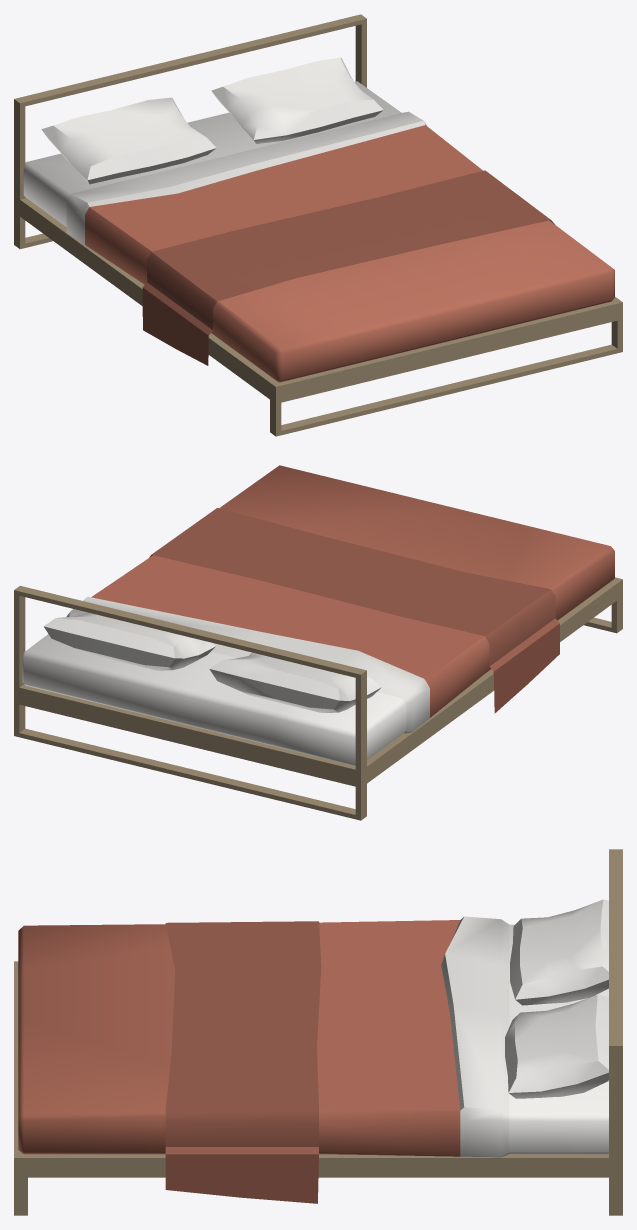
File: bed_king.glb
3 renders of one model, top to bottom at view 1: azimuth 30°, elevation 25°; view 2: azimuth 150°, elevation 25°; view 3: azimuth 270°, elevation 25°, orthographic. The views are drawn at different scales.
Visible parts, largest first — view 1: Bed_King; view 2: Bed_King; view 3: Bed_King.
Part boxes in pixels (x1,y1,x2,y2): Bed_King: [14, 14, 622, 436]; Bed_King: [14, 465, 622, 820]; Bed_King: [14, 849, 622, 1215].
Size of the model in its own units: 3.06 by 1.21 by 3.95.
